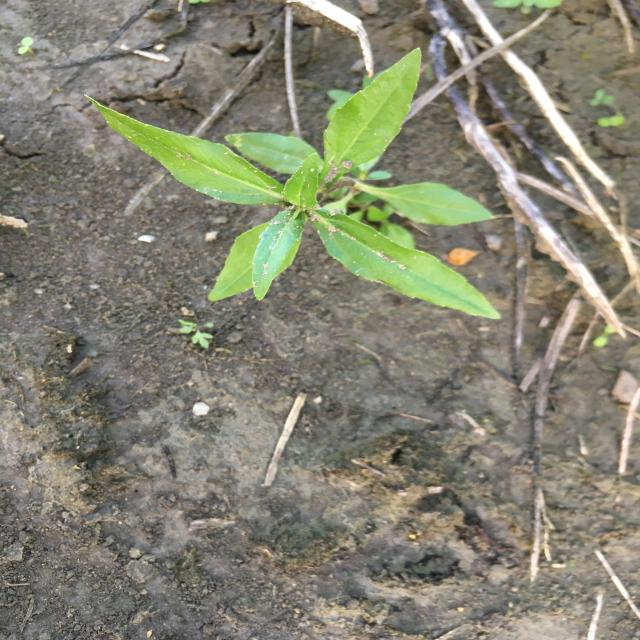Eclipta: (80, 46, 504, 322)
